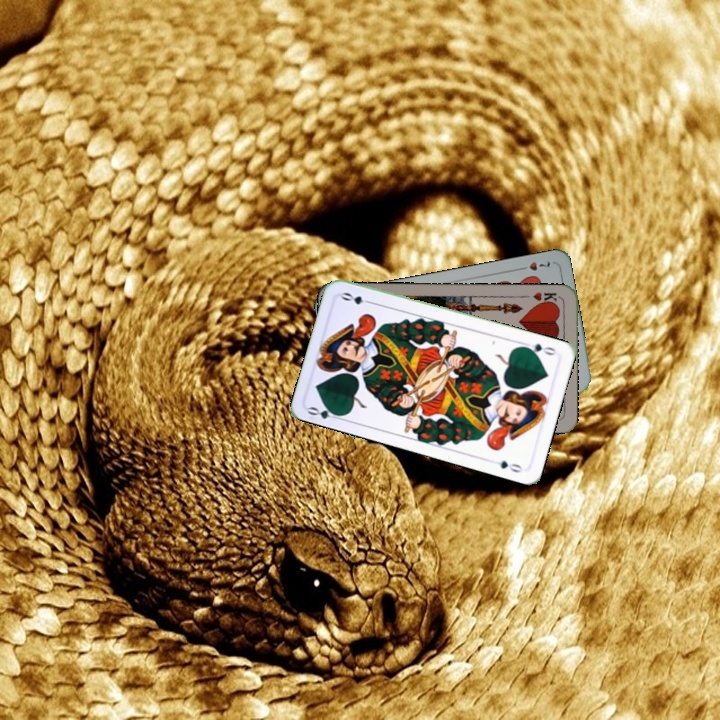GO: (304, 400, 345, 423), (519, 339, 559, 358)
H7: (514, 257, 553, 273)
HK: (529, 288, 562, 307)
